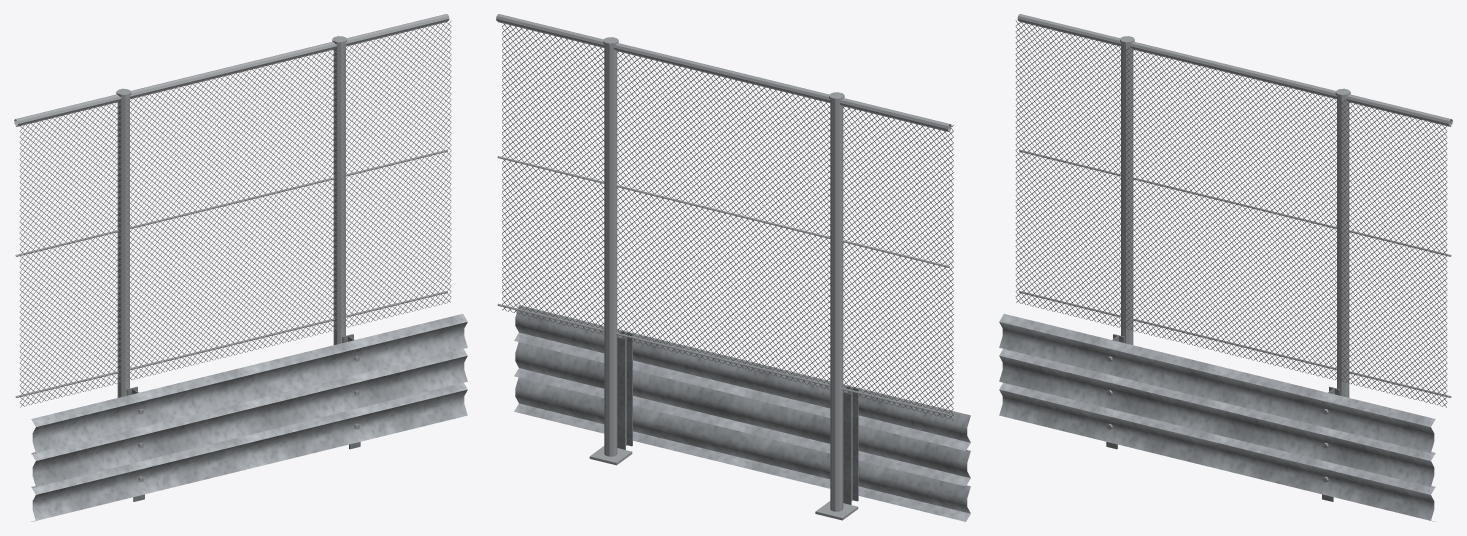
Rendered from armco_4m_fence.glb.
3 views of the same model, side by side, from view 1: azimuth 30°, elevation 25°; view 2: azimuth 150°, elevation 25°; view 3: azimuth 330°, elevation 25° (orthographic). The views are drawn at different scales.
Parts seen in each view (by area): view 1: armco_4m_fence; view 2: armco_4m_fence; view 3: armco_4m_fence.
Boxes of the visible parts, x1,y1,x2,y2 form: armco_4m_fence: [14, 14, 467, 521]; armco_4m_fence: [496, 14, 970, 521]; armco_4m_fence: [999, 14, 1452, 521].
Size of the model in its own units: 4 by 3.52 by 0.445.
5 materials, 3 textured.
